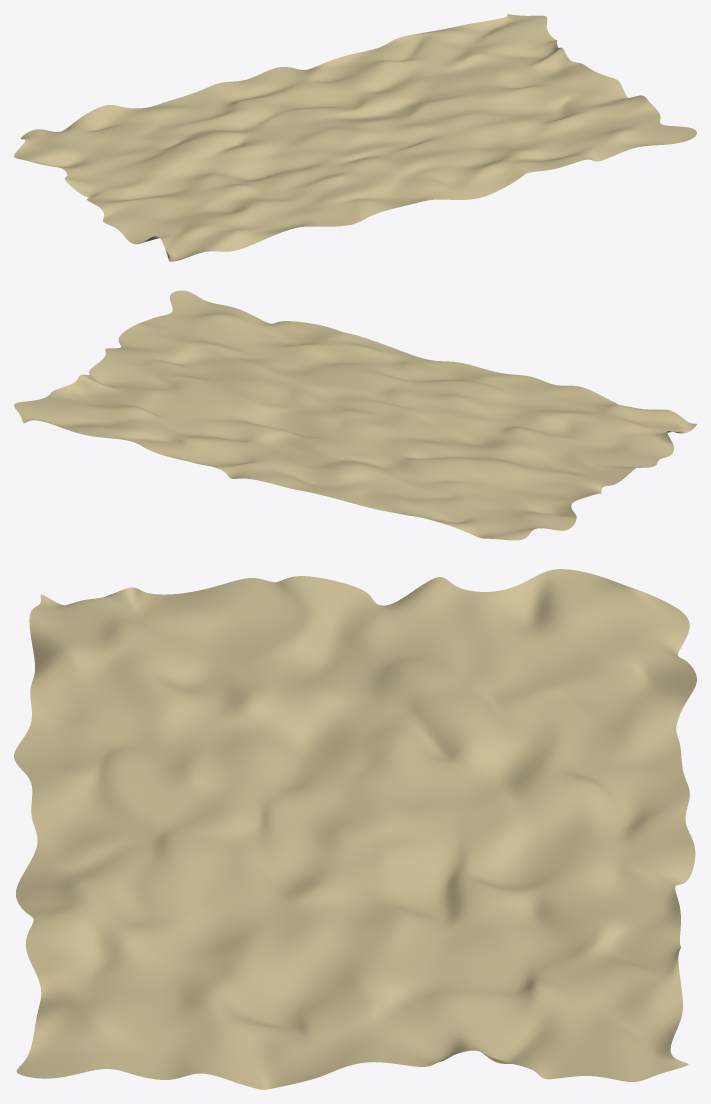
File: sand.glb
The picture shows the model from 3 angles, top to bottom: view 1: azimuth 30°, elevation 25°; view 2: azimuth 150°, elevation 25°; view 3: azimuth 270°, elevation 25°; orthographic projection. The views are drawn at different scales.
Parts seen in each view (by area): view 1: Plane; view 2: Plane; view 3: Plane.
Part boxes in pixels (x1,y1,x2,y2): Plane: (14, 14, 696, 261); Plane: (14, 290, 696, 540); Plane: (14, 569, 696, 1089).
Bounding box in the file's own units: 32.62 × 0.7968 × 18.47.
